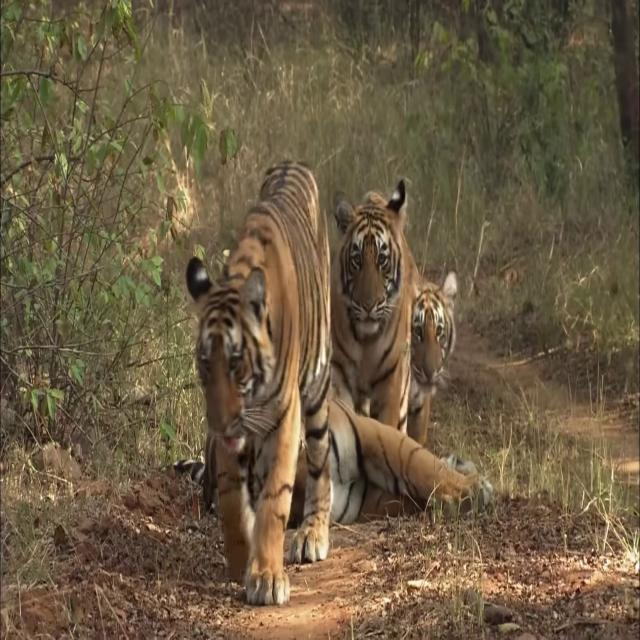tiger: (186, 160, 336, 604), (328, 172, 417, 418), (410, 265, 460, 442)
